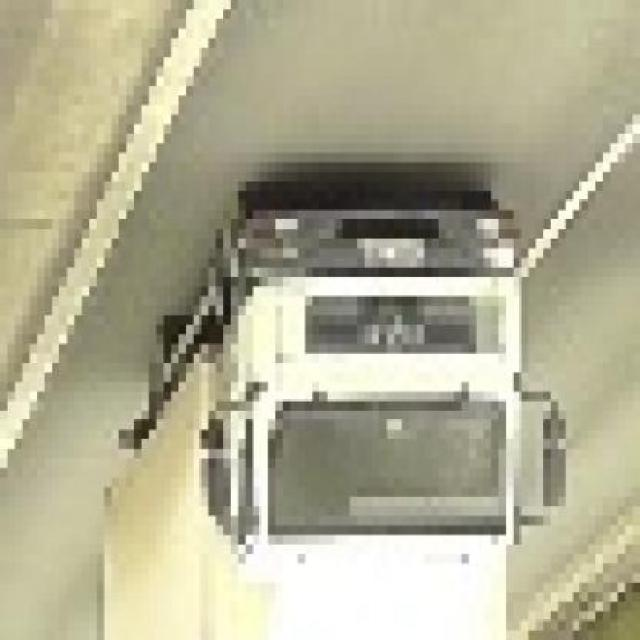truck: (113, 192, 574, 640)
